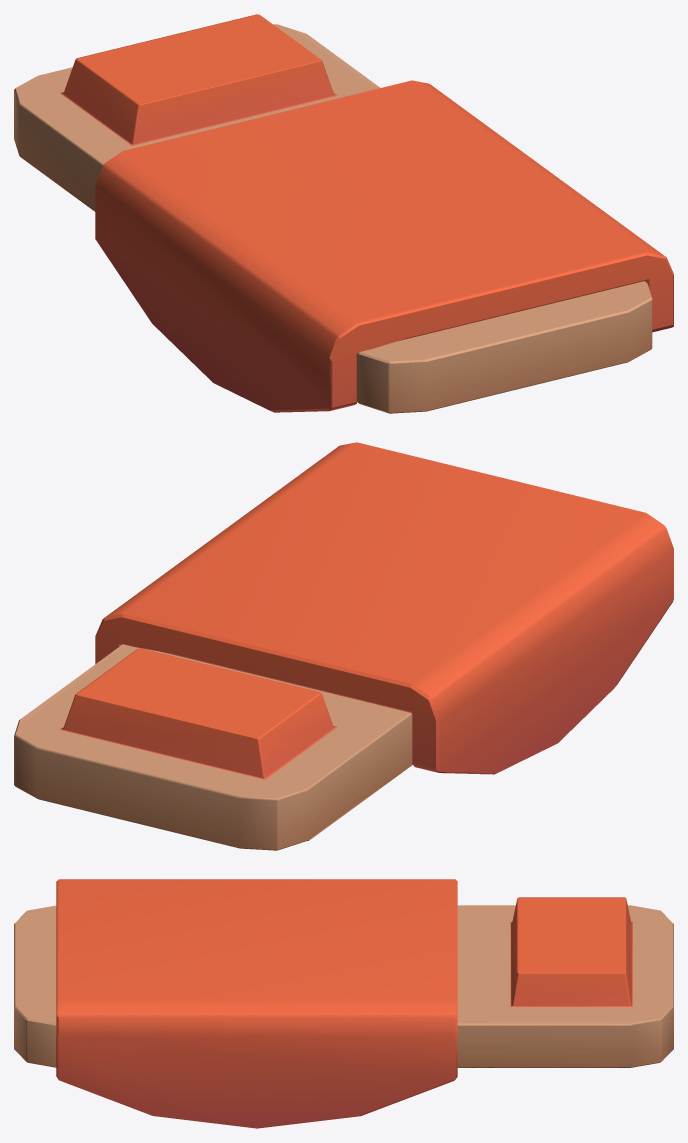
Rendered from kenney-survival__bedroll.glb.
The picture shows the model from 3 angles, top to bottom: view 1: azimuth 30°, elevation 25°; view 2: azimuth 150°, elevation 25°; view 3: azimuth 270°, elevation 25°; orthographic projection. The views are drawn at different scales.
Parts seen in each view (by area): view 1: blanket, bedroll; view 2: blanket, bedroll; view 3: blanket, bedroll.
Boxes of the visible parts, x1,y1,x2,y2 form: blanket: (95,80,673,412); bedroll: (14,14,652,413); blanket: (95,442,673,774); bedroll: (14,644,412,850); blanket: (56,879,457,1128); bedroll: (14,897,673,1067).
Size of the model in its own units: 0.3104 by 0.1248 by 0.6076.
1 material, 1 textured.
